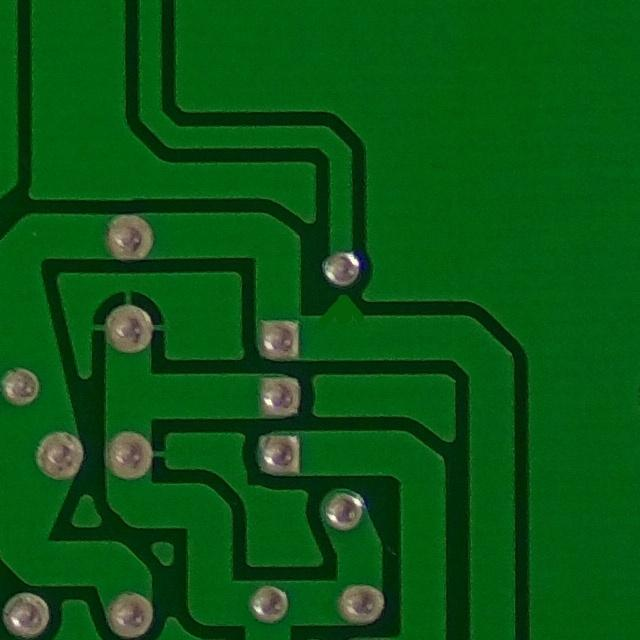spur: (314, 284, 380, 339)
